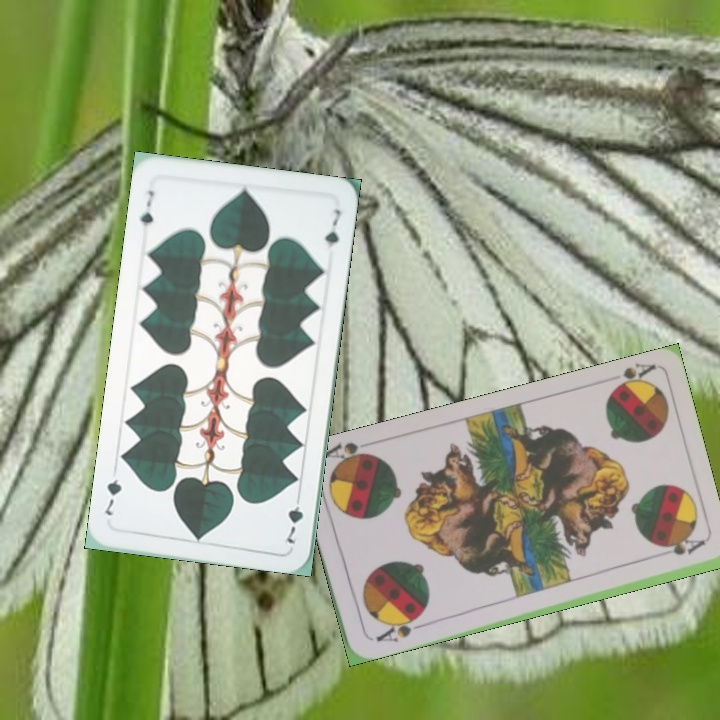G7: (281, 489, 306, 547), (136, 186, 157, 229)
SA: (604, 359, 658, 397), (372, 611, 426, 646)
